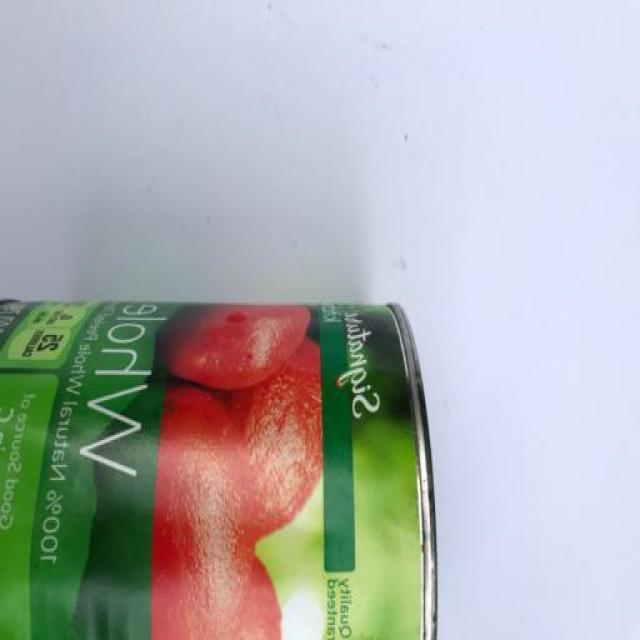metal: (0, 281, 446, 640)
